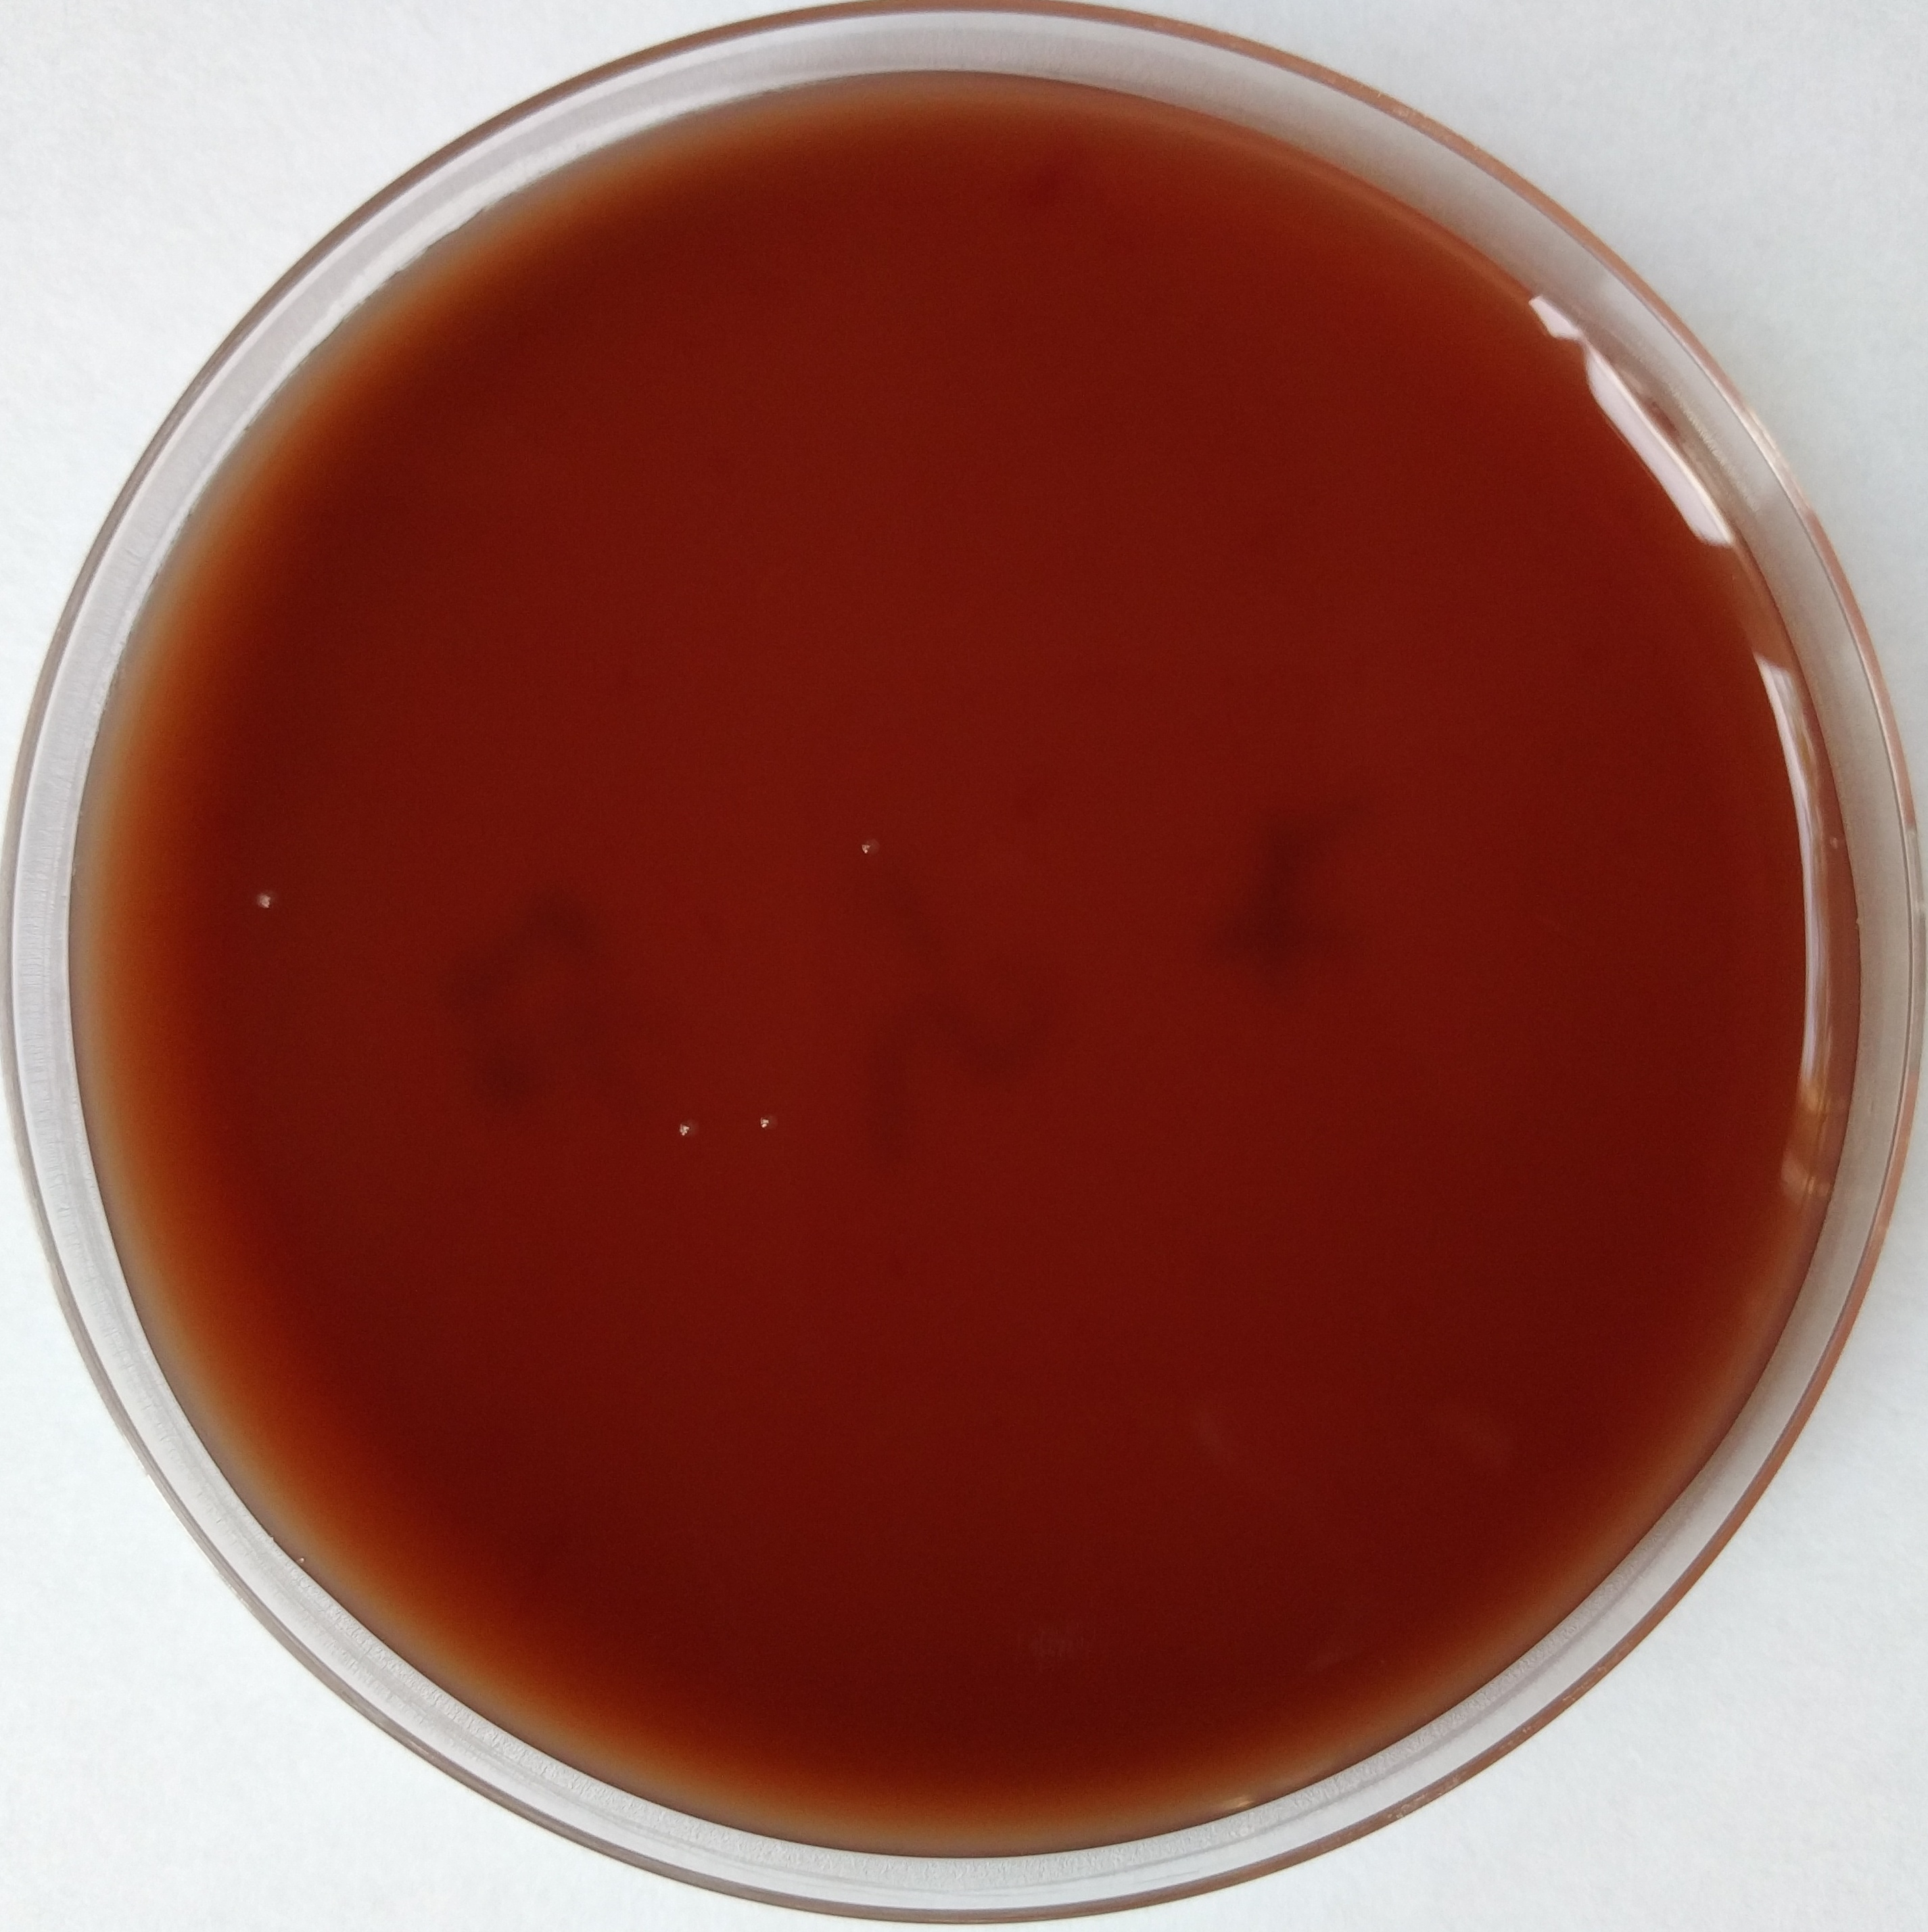sp07: (230, 864, 318, 945), (627, 1097, 708, 1155), (745, 1104, 803, 1144), (851, 816, 886, 871)
